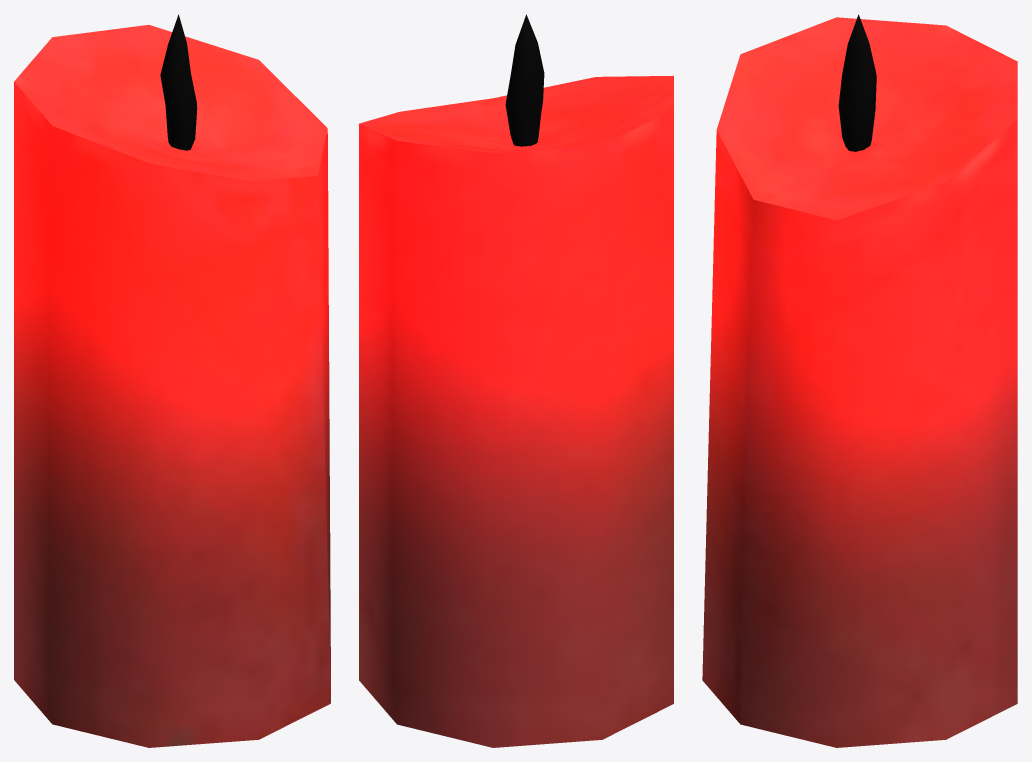
Rendered from SM_Prop_Candle_Red.fbx.
3 views of the same model, side by side, from view 1: azimuth 30°, elevation 25°; view 2: azimuth 150°, elevation 25°; view 3: azimuth 270°, elevation 25° (orthographic).
Visible parts, largest first — view 1: SM_Prop_Candle_Red_LOD0; view 2: SM_Prop_Candle_Red_LOD0; view 3: SM_Prop_Candle_Red_LOD0.
Boxes of the visible parts, box(x1,y1,x2,y2) form: SM_Prop_Candle_Red_LOD0: box(14, 14, 330, 747); SM_Prop_Candle_Red_LOD0: box(359, 14, 673, 747); SM_Prop_Candle_Red_LOD0: box(702, 14, 1017, 747).
Size of the model in its own units: 16.19 by 15.94 by 37.14.
Materials: 1 (1 with a texture image).
